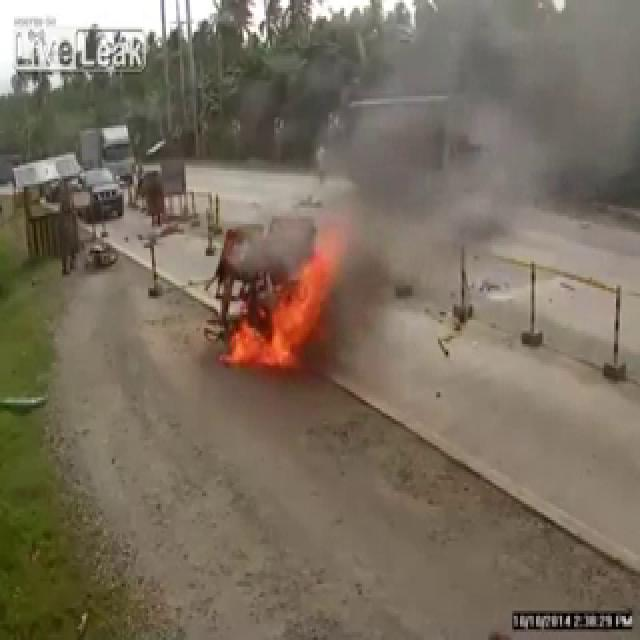explosion: (134, 0, 390, 475)
